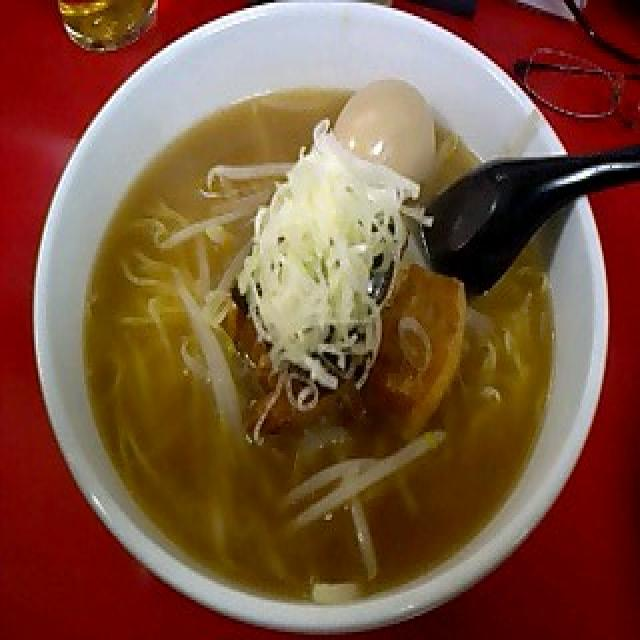面条主食: (28, 0, 616, 640)
